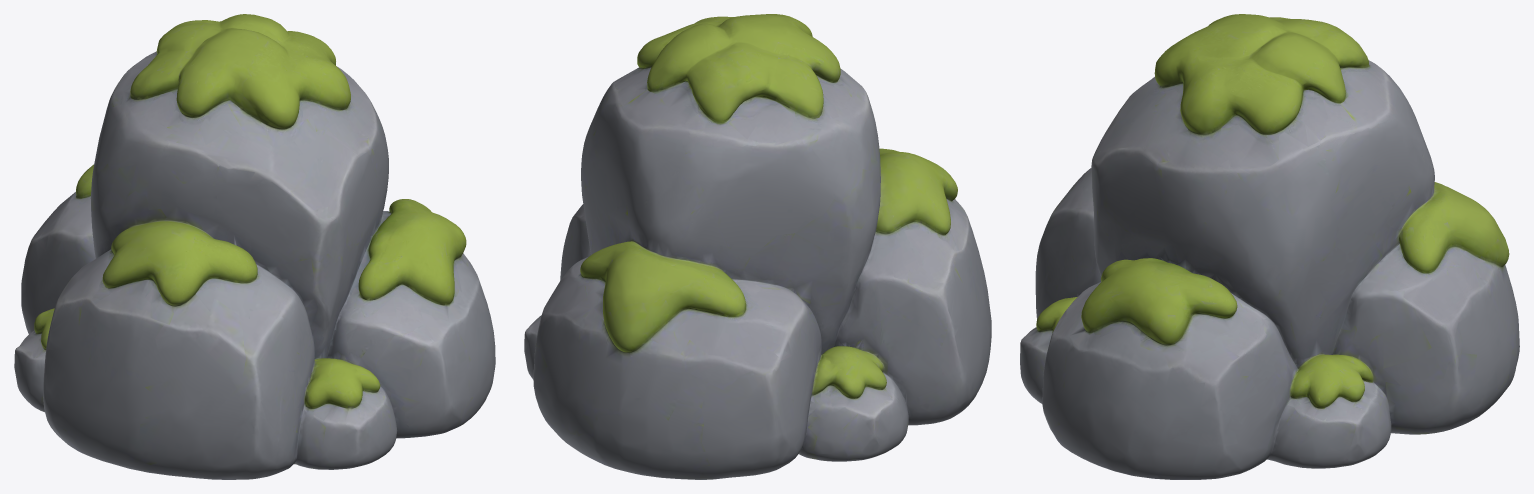
The model's file is 07_rock.glb.
3 views of the same model, side by side, from view 1: azimuth 30°, elevation 25°; view 2: azimuth 150°, elevation 25°; view 3: azimuth 270°, elevation 25° (orthographic).
Visible parts, largest first — view 1: node_0; view 2: node_0; view 3: node_0.
Boxes of the visible parts, <box> form: node_0: <box>14,14,495,479</box>; node_0: <box>524,14,991,479</box>; node_0: <box>1020,14,1519,479</box>.
Size of the model in its own units: 1.21 by 1 by 1.26.
1 material, 1 textured.
